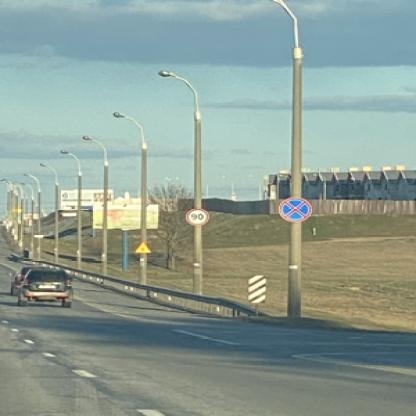Speed Limit 90: (187, 208, 208, 226)
